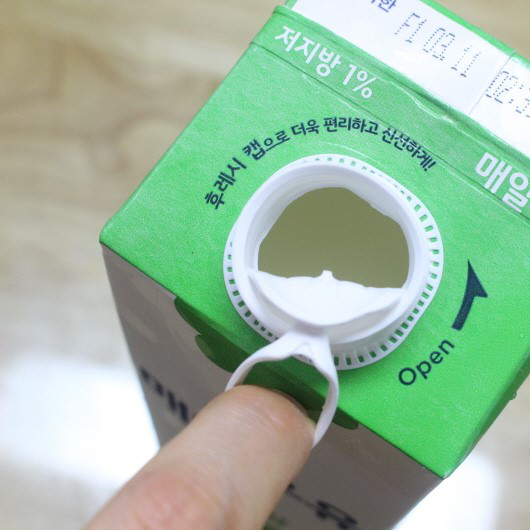milk: (100, 1, 530, 528)
